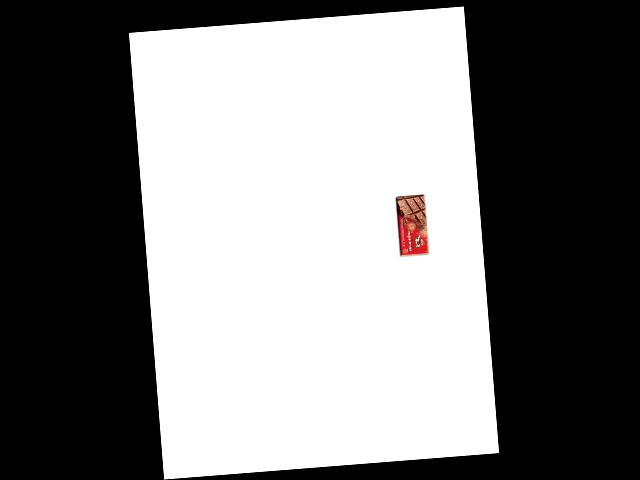chocolate: (394, 192, 430, 257)
